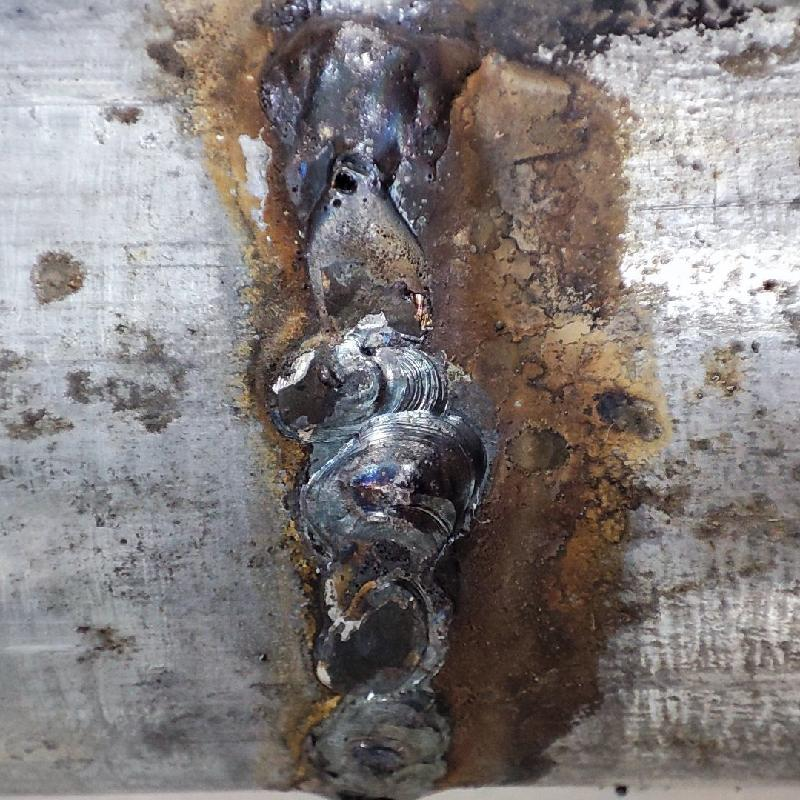Not_fully_soldered: (301, 151, 443, 337)
Weld: (257, 4, 462, 152)
wrong_size: (263, 340, 490, 794)
